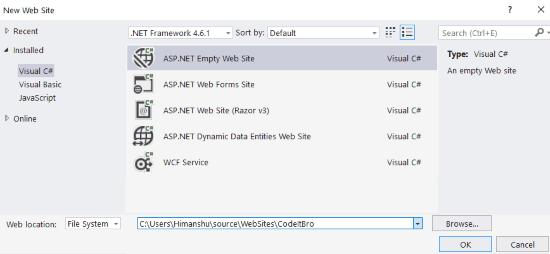button: (430, 213, 496, 232), (434, 234, 495, 253)
dropdown: (133, 212, 429, 238), (61, 215, 126, 236)
